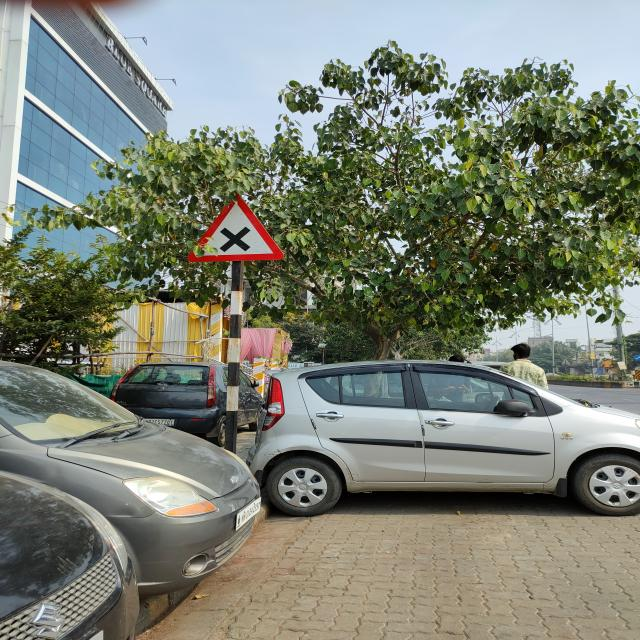cross_road: (188, 191, 286, 262)
